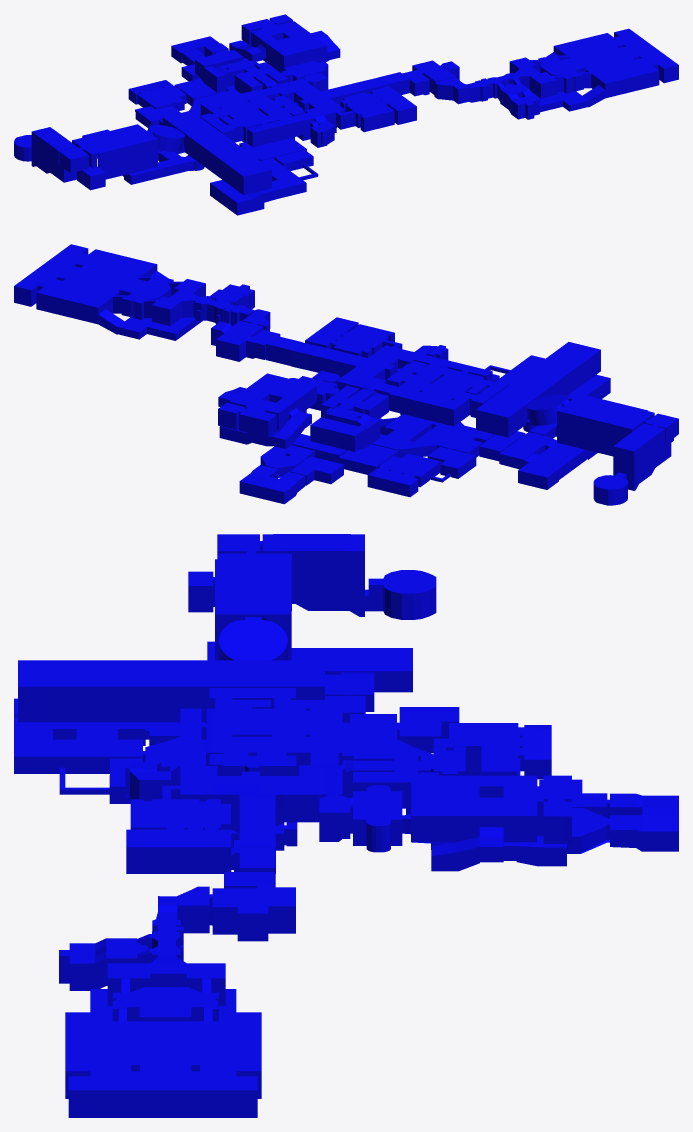
The model's file is level 4.fbx.
3 views of the same model, one above another, from view 1: azimuth 30°, elevation 25°; view 2: azimuth 150°, elevation 25°; view 3: azimuth 270°, elevation 25° (orthographic). The views are drawn at different scales.
Parts seen in each view (by area): view 1: Plane; view 2: Plane; view 3: Plane.
Part boxes in pixels (box(x1,y1,x2,y2)): Plane: box(14, 14, 678, 215); Plane: box(14, 244, 678, 505); Plane: box(14, 534, 678, 1117).
Size of the model in its own units: 15020 by 1150 by 7958.
